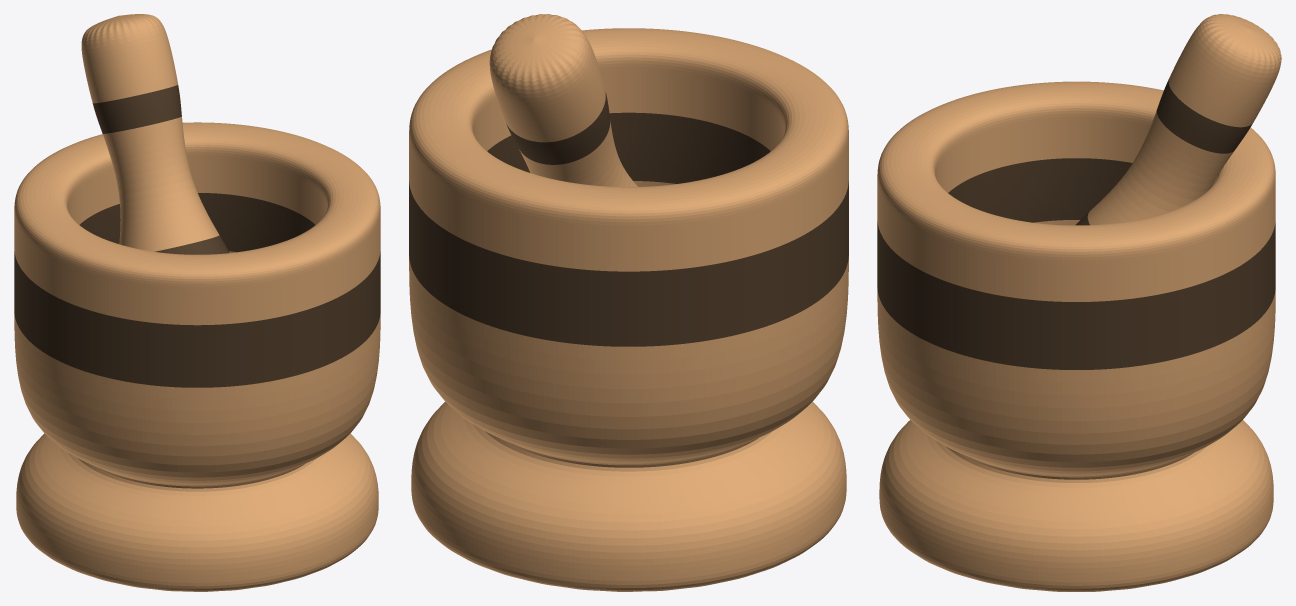
Rendered from Molinete.fbx.
The picture shows the model from 3 angles, left to right: view 1: azimuth 30°, elevation 25°; view 2: azimuth 150°, elevation 25°; view 3: azimuth 270°, elevation 25°; orthographic projection. The views are drawn at different scales.
Parts seen in each view (by area): view 1: Circle, Cylinder; view 2: Circle, Cylinder; view 3: Circle, Cylinder.
Boxes of the visible parts, box(x1,y1,x2,y2) form: Circle: box(14, 122, 380, 591); Cylinder: box(81, 14, 229, 254); Circle: box(409, 28, 848, 591); Cylinder: box(489, 14, 637, 186); Circle: box(877, 81, 1275, 591); Cylinder: box(1075, 14, 1281, 225).
Bounding box in the file's own units: 103 × 142 × 104.
